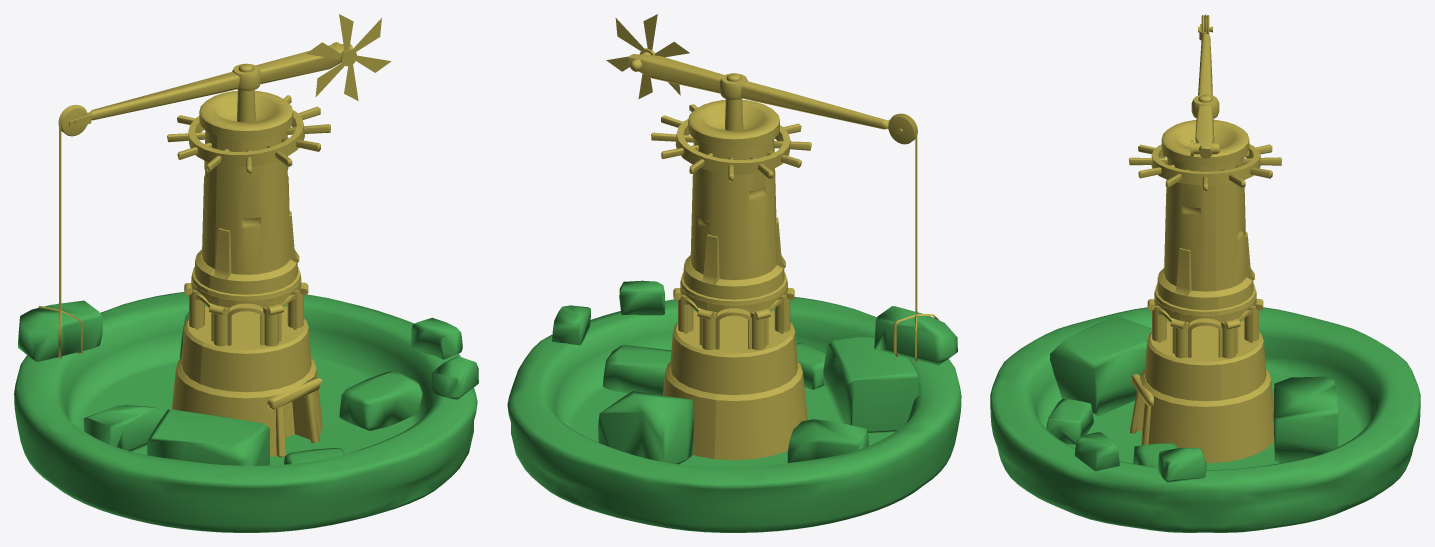
Rendered from SM_StoneBuilding_Resource_StoneCareer(2).fbx.
3 renders of one model, left to right at view 1: azimuth 30°, elevation 25°; view 2: azimuth 150°, elevation 25°; view 3: azimuth 270°, elevation 25°, orthographic. The views are drawn at different scales.
Visible parts, largest first — view 1: polySurface1042; view 2: polySurface1042; view 3: polySurface1042.
Boxes of the visible parts, bbox=[...] form: polySurface1042: bbox=[14, 14, 478, 532]; polySurface1042: bbox=[507, 14, 961, 532]; polySurface1042: bbox=[990, 14, 1420, 532].
Size of the model in its own units: 696 by 650 by 661.
